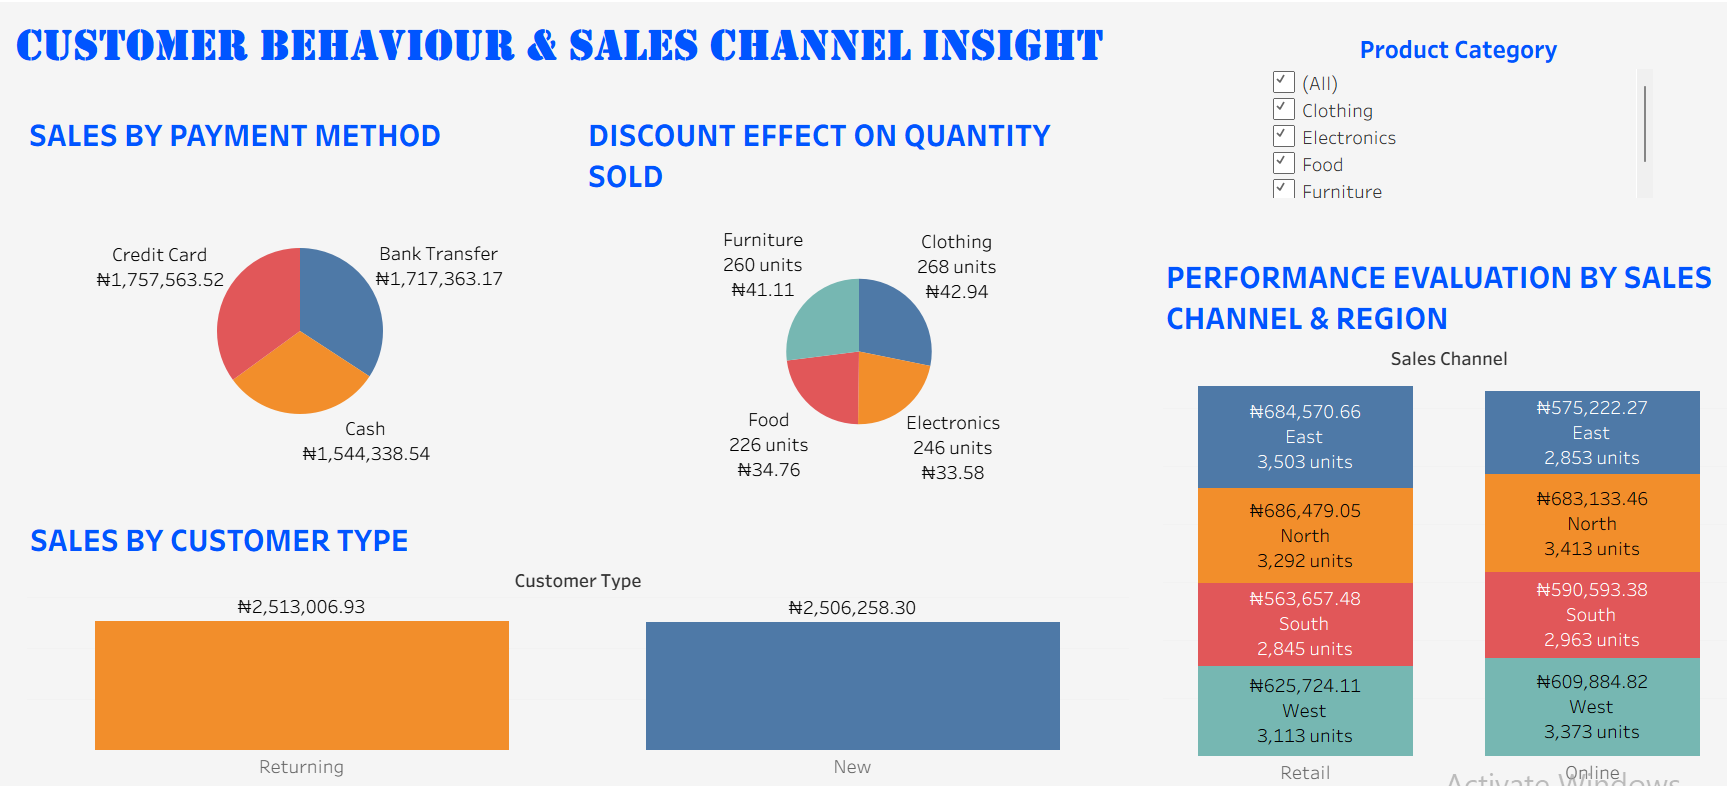

What the dashboard file says about the page in this screenshot:
{"tool":"tableau","page":{"name":"Dashboard 3","canvas":[1000,1000],"units":"permille","ordinal":2},"visuals":[{"type":"text","box":[11.4,12.2,659.2,105.1]},{"type":"filter","title":"DISCOUNT EFFECT ON QUANTITY SOLD","param":"[federated.0qipprd1s8k0hx1bnbw140c2nlob].[none:Product_Category:nk]","box":[725.4,42.8,227.2,216.4]},{"type":"worksheet","title":"SALES BY PAYMENT METHOD","mark":"Pie","box":[16.8,138.1,319.4,491.4]},{"type":"worksheet","title":"DISCOUNT EFFECT ON QUANTITY SOLD","mark":"Pie","box":[336.2,138.1,319.4,491.4]},{"type":"worksheet","title":"PERFORMANCE EVALUATION BY SALES CHANNEL & REGION","mark":"Automatic","rows":["Quantity_Sold"],"cols":["Sales_Channel"],"box":[667.1,314.2,332.9,673.6]},{"type":"worksheet","title":"SALES BY CUSTOMER TYPE","mark":"Automatic","rows":["Sales_Amount"],"cols":["Customer_Type"],"box":[17.4,640.6,635.8,338.6]}]}

Visuals, with their boxes on the dashboard's canvas, which has no fixed pixel size, in thousandths of its width and height (x1, y1, x2, y2). These are canvas units, not pixel positions in the 1727x786 screenshot, which may show the page scaled, cropped or inside an application window:
text: pyautogui.locateOnScreen(11, 12, 671, 117)
"DISCOUNT EFFECT ON QUANTITY SOLD" filter: pyautogui.locateOnScreen(725, 43, 953, 259)
"SALES BY PAYMENT METHOD" worksheet (Pie marks): pyautogui.locateOnScreen(17, 138, 336, 630)
"DISCOUNT EFFECT ON QUANTITY SOLD" worksheet (Pie marks): pyautogui.locateOnScreen(336, 138, 656, 630)
"PERFORMANCE EVALUATION BY SALES CHANNEL & REGION" worksheet: pyautogui.locateOnScreen(667, 314, 1000, 988)
"SALES BY CUSTOMER TYPE" worksheet: pyautogui.locateOnScreen(17, 641, 653, 979)
